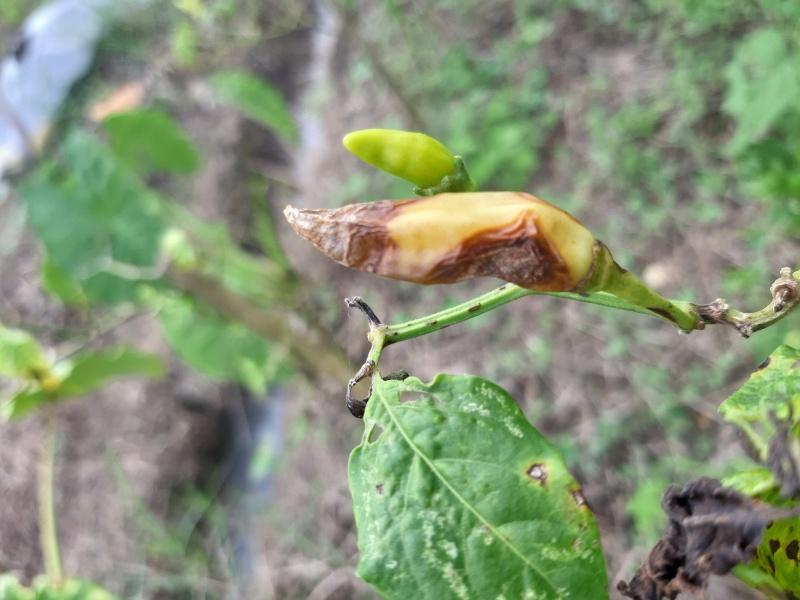antraknosa: (285, 194, 597, 290)
cabai_normal: (342, 124, 454, 187)
